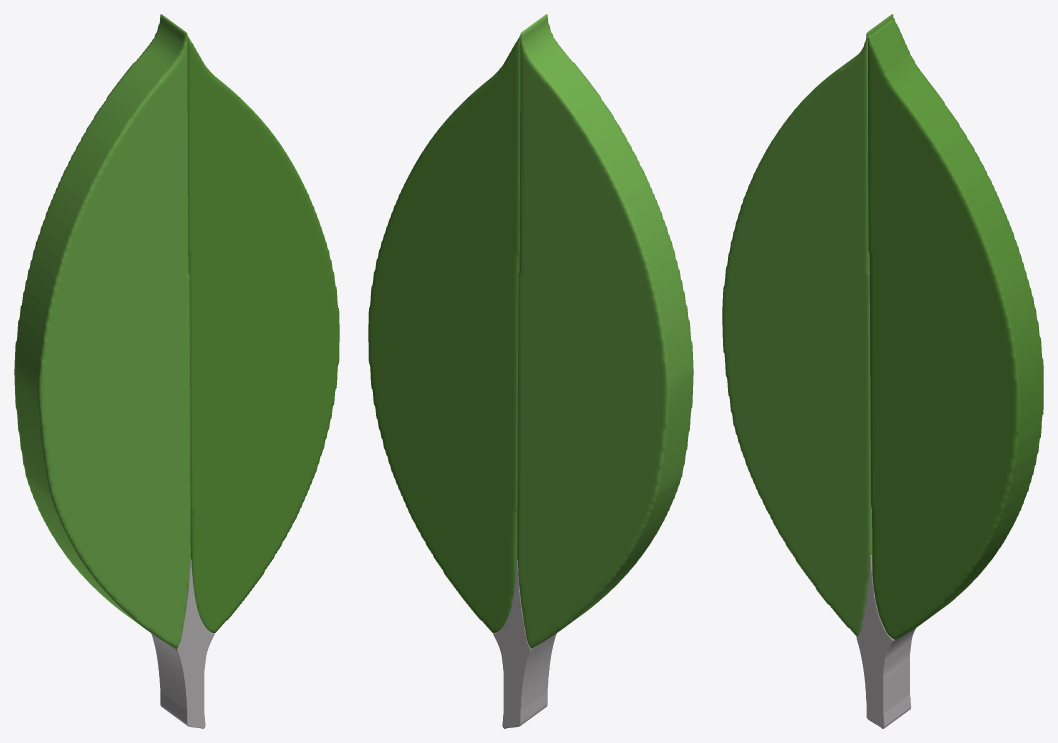
File: mongo.glb
3 views of the same model, side by side, from view 1: azimuth 30°, elevation 25°; view 2: azimuth 150°, elevation 25°; view 3: azimuth 330°, elevation 25° (orthographic).
Parts seen in each view (by area): view 1: Curve.001, Curve, Curve.002; view 2: Curve.001, Curve, Curve.002; view 3: Curve, Curve.001, Curve.002.
Part boxes in pixels (x1,y1,x2,y2): Curve.001: (14,14,190,648); Curve: (187,36,339,633); Curve.002: (151,559,214,728); Curve.001: (517,14,693,648); Curve: (368,36,520,633); Curve.002: (493,559,556,728); Curve: (868,18,1043,639); Curve.001: (722,14,893,636); Curve.002: (856,555,915,728).
Bounding box in the file's own units: 12.89 × 28.69 × 2.
